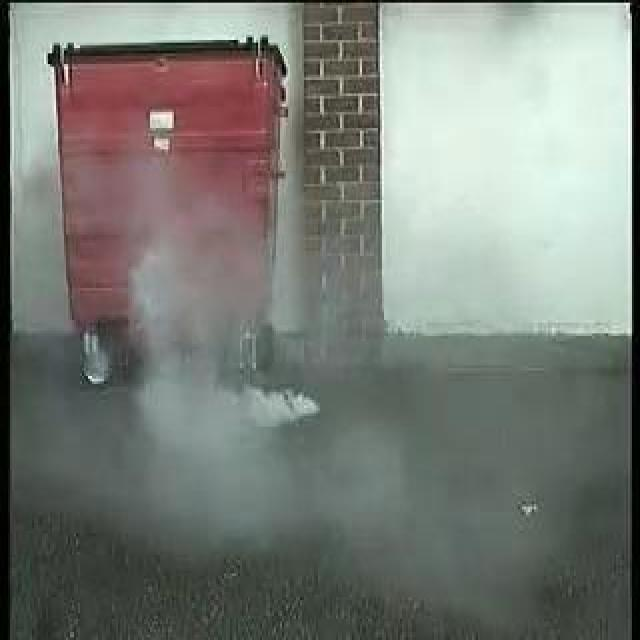Smoke: (150, 276, 374, 439)
